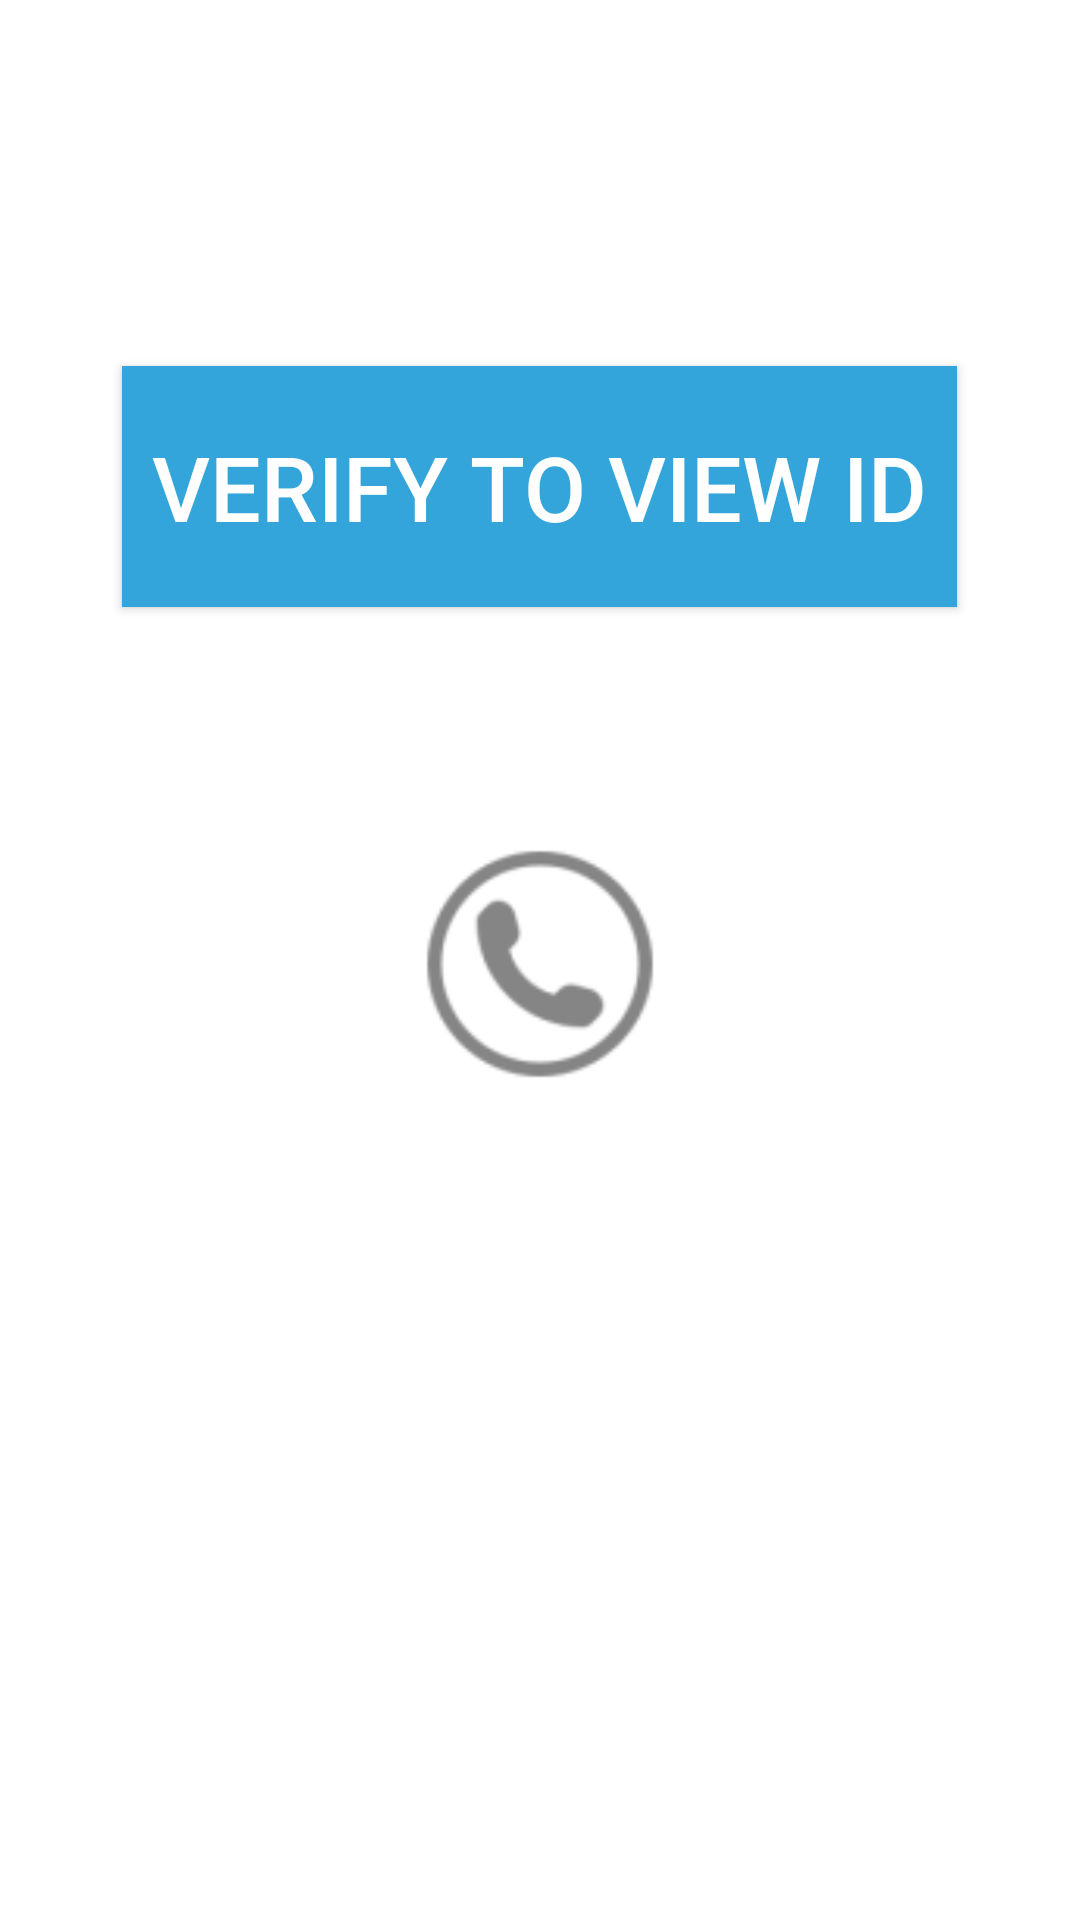

Screen size 1080×1920. Icon name, then its box in pixels as (x1, y1, x2, y2):
call sos: (427, 851, 653, 1077)
